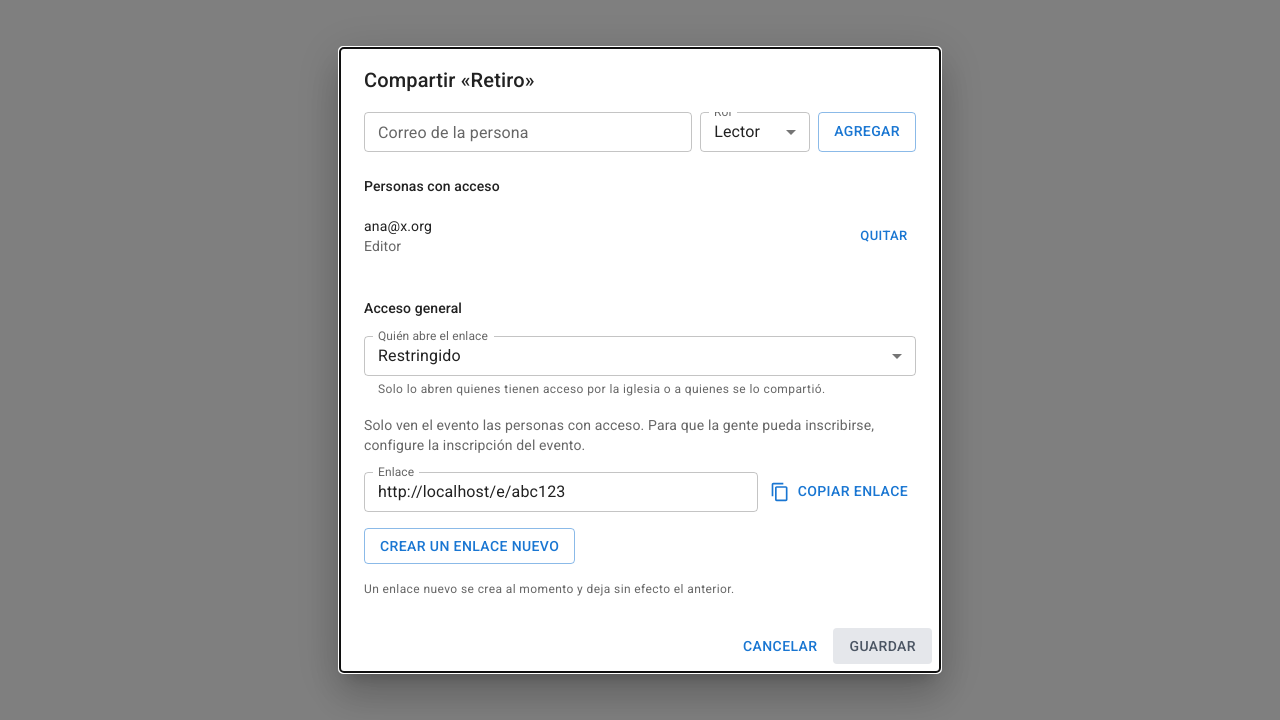
it: ShareEventDialog › goes back to disabled when the change is undone
Step 1. Click the dropdown named "Quién abre el enlace" → (419, 356), box [378, 346, 461, 365]
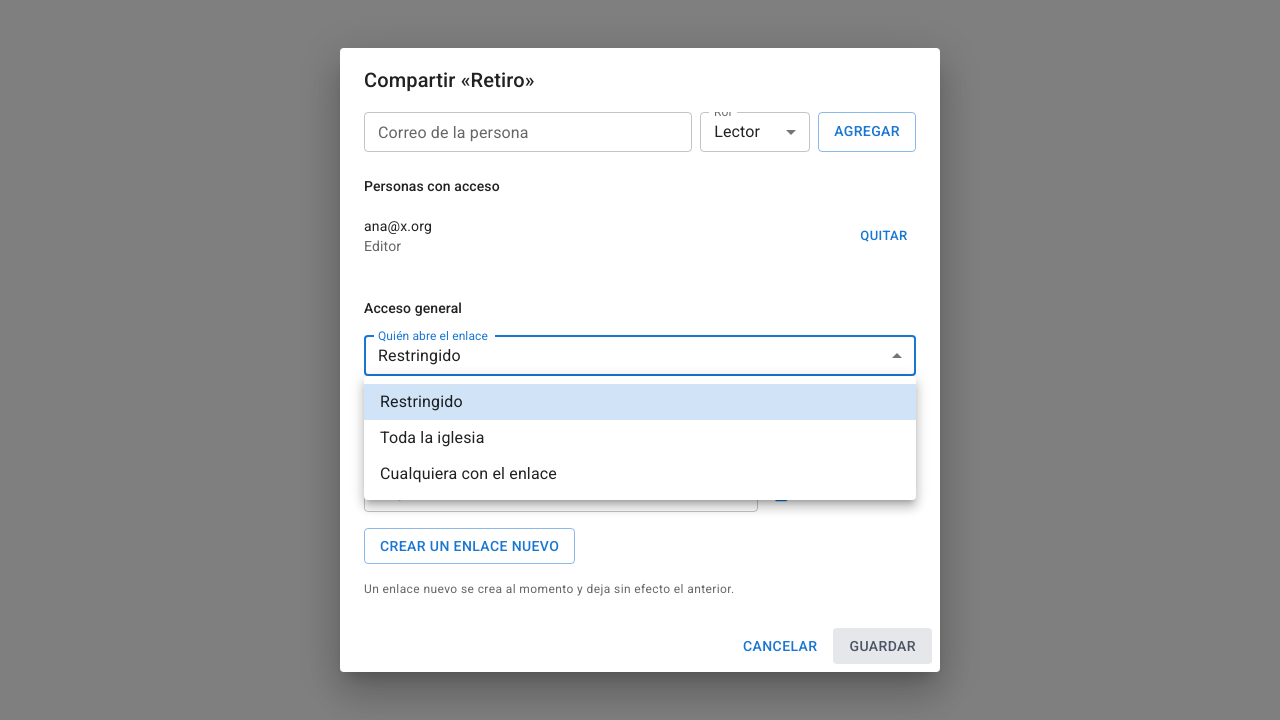
Step 2. Click the option "Toda la iglesia" → (432, 438), box [380, 428, 484, 447]
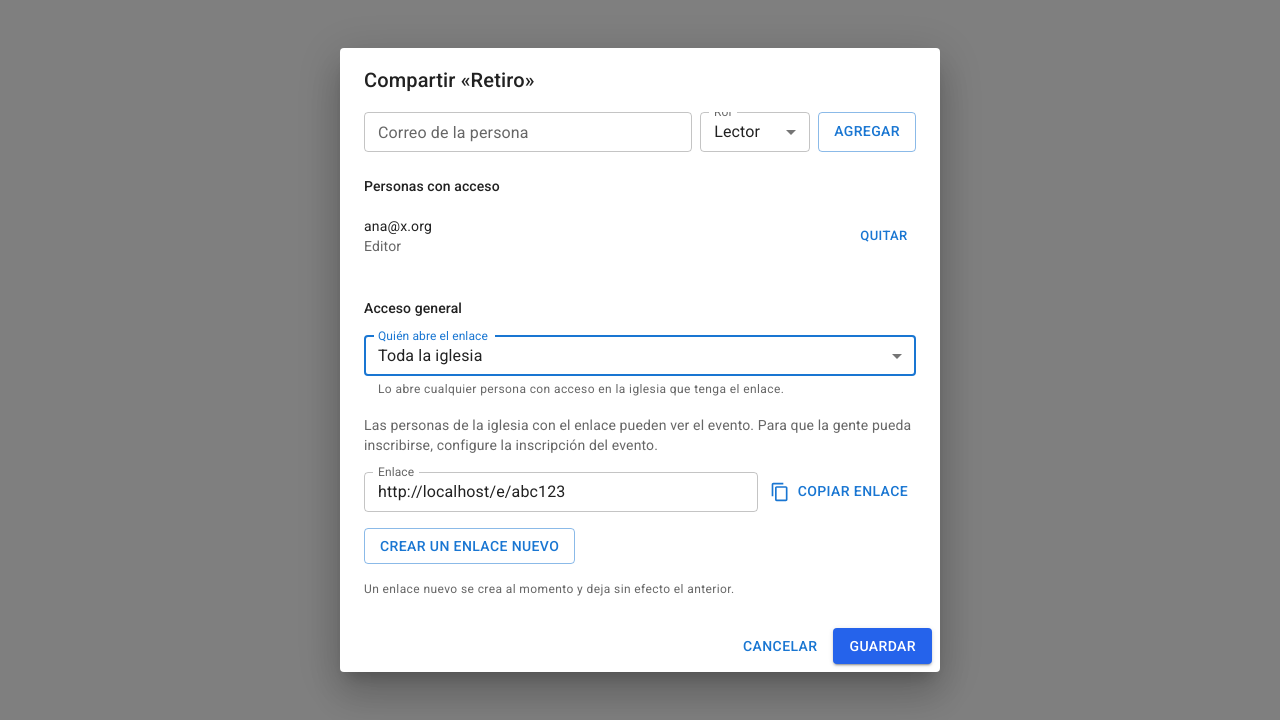
Check: the button "Guardar" is enabled, box [834, 628, 932, 664]
Step 3. Click the dropdown named "Quién abre el enlace" → (430, 356), box [378, 346, 482, 365]
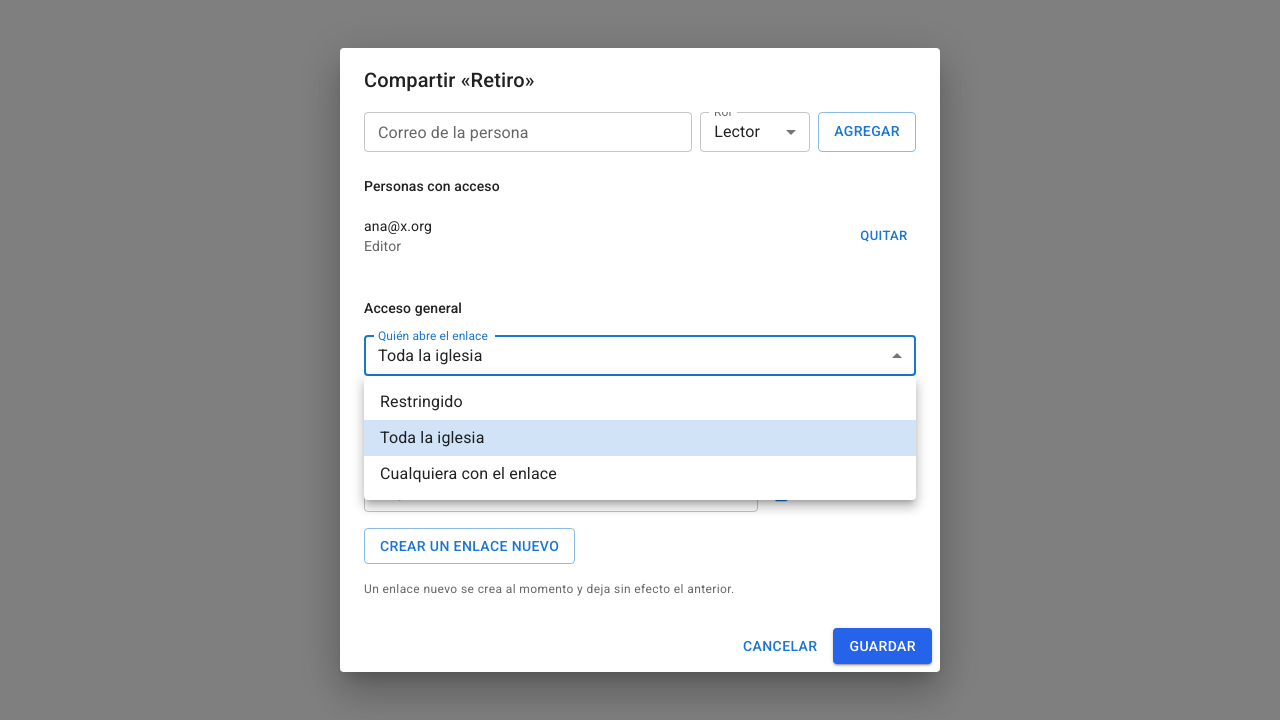
Step 4. Click the option "Restringido" → (421, 402), box [380, 392, 463, 411]
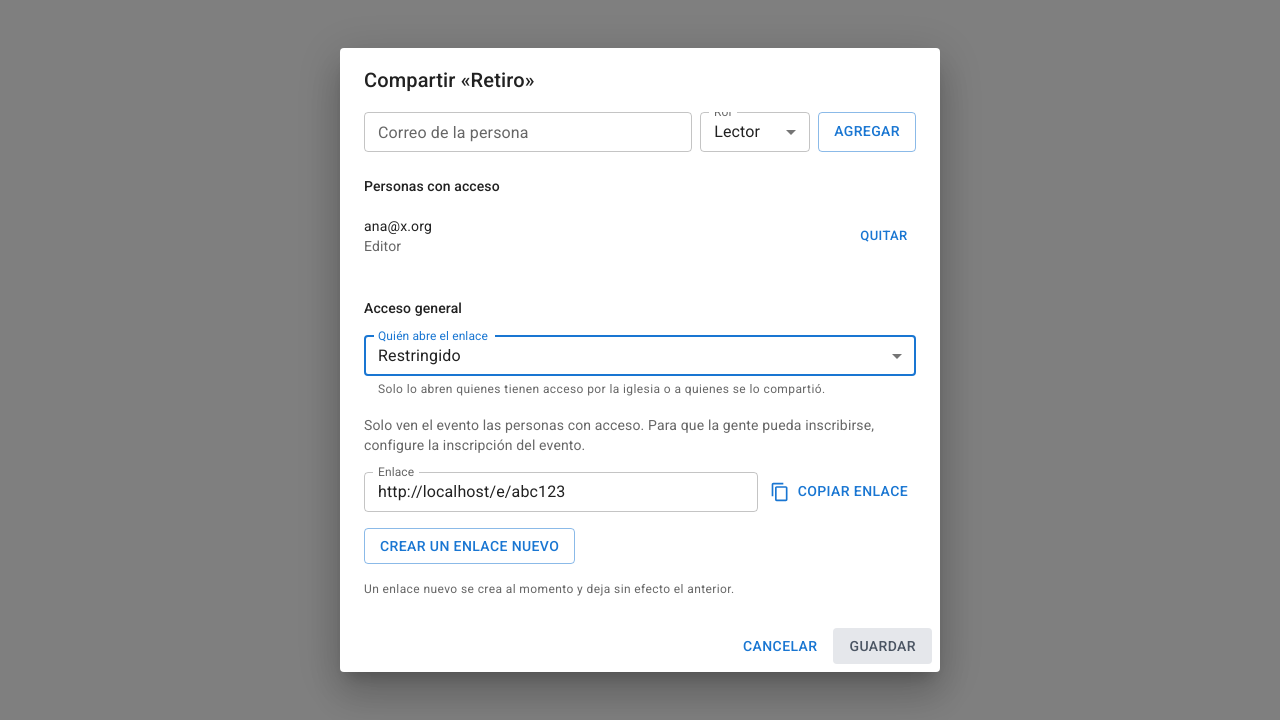
Check: the button "Guardar" is disabled, box [834, 628, 932, 664]
